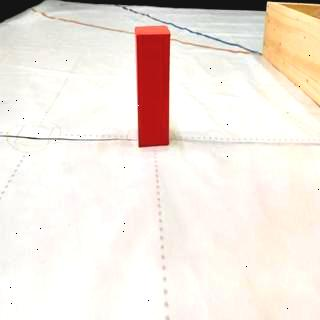redbox: (133, 26, 171, 148)
